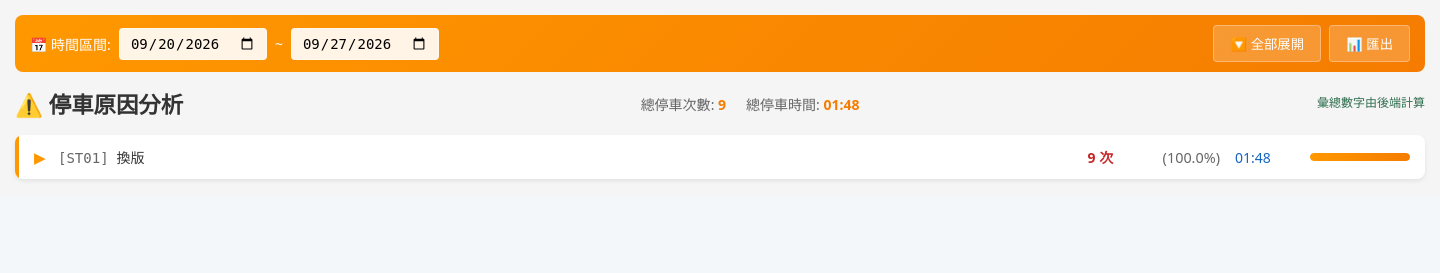
Test: StopReasonView 改讀後端彙總 › AC-19 採用後端的次數,展開後仍顯示得出訂單明細
The image size is (1440, 273).
Expected: the text "9 次" is shown, [1088,148,1113,167]
// 展開:明細來自逐筆清單,不是彙總端點
Click the text "換版": (101, 158) [58,148,145,167]
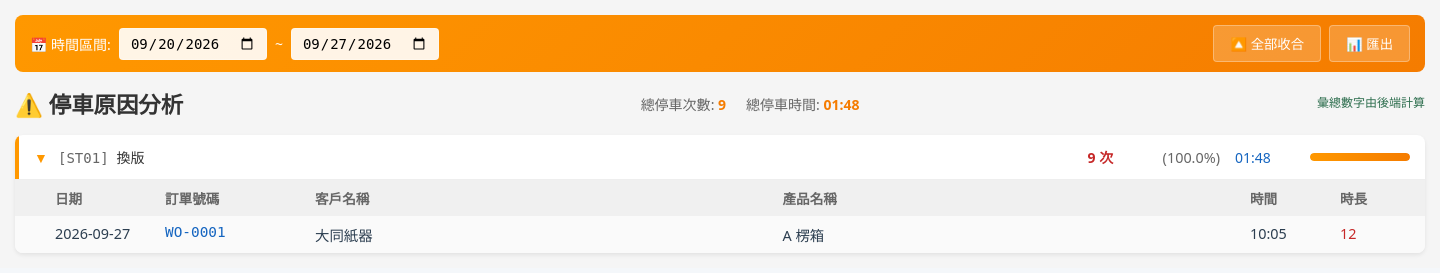
Expected: the text "WO-0001" is shown, [165,224,226,240]
Expected: the text "大同紙器" is shown, [315,226,373,245]
